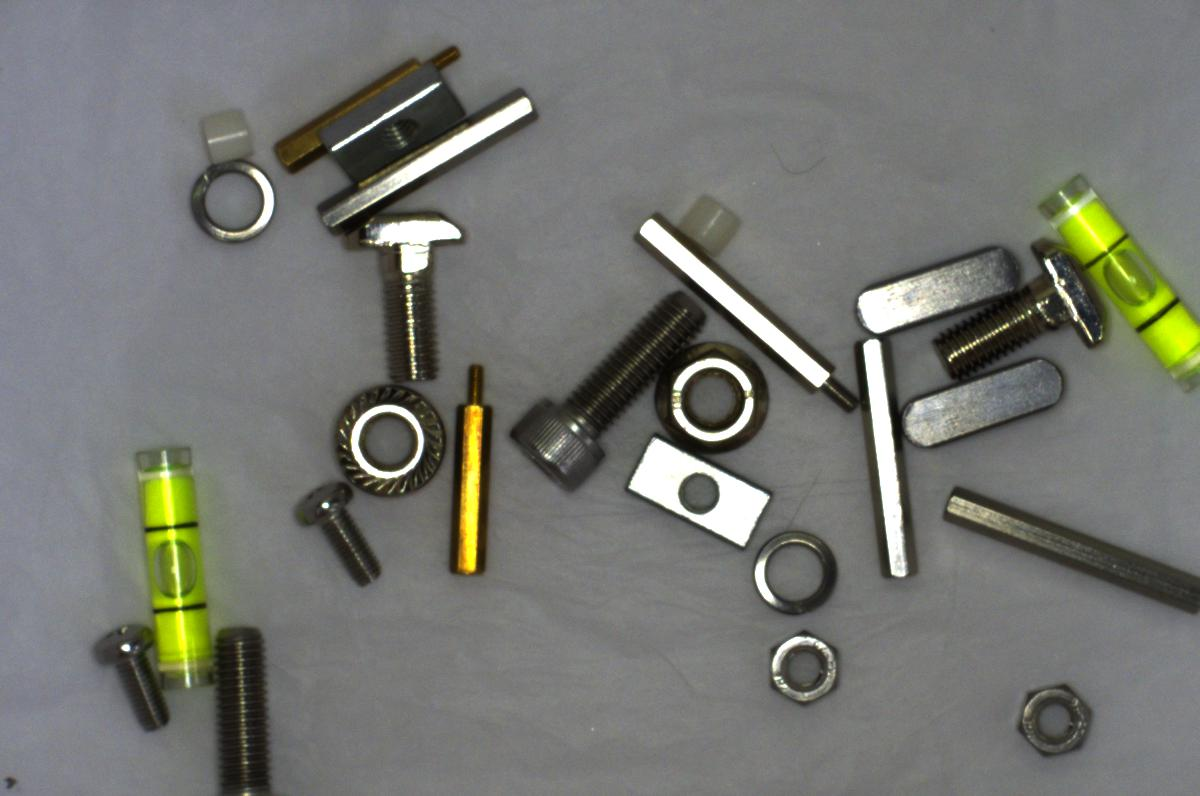Double hexagonal column: (311, 87, 546, 235), (848, 333, 928, 583)
Flange nut: (308, 377, 448, 505), (651, 335, 782, 463)
Hexagon nut: (1007, 667, 1102, 769), (753, 626, 847, 713)
Hexagon pillar: (451, 358, 501, 583)
Hexagon screw: (501, 294, 721, 489)
Hexagonal steel column: (637, 212, 856, 406)
Horizontal bubble: (1041, 165, 1199, 397), (128, 433, 221, 698)
Keybar: (841, 235, 1025, 337), (897, 355, 1076, 454)
Plastic cushion pillar: (669, 186, 747, 258), (189, 94, 255, 167)
Rectangular nut: (617, 439, 775, 548)
Round head screw: (288, 472, 387, 585), (88, 617, 178, 739)
Spring washer: (748, 521, 841, 619), (183, 160, 278, 249)
T-shaped screw: (929, 235, 1114, 378), (343, 206, 479, 387)
